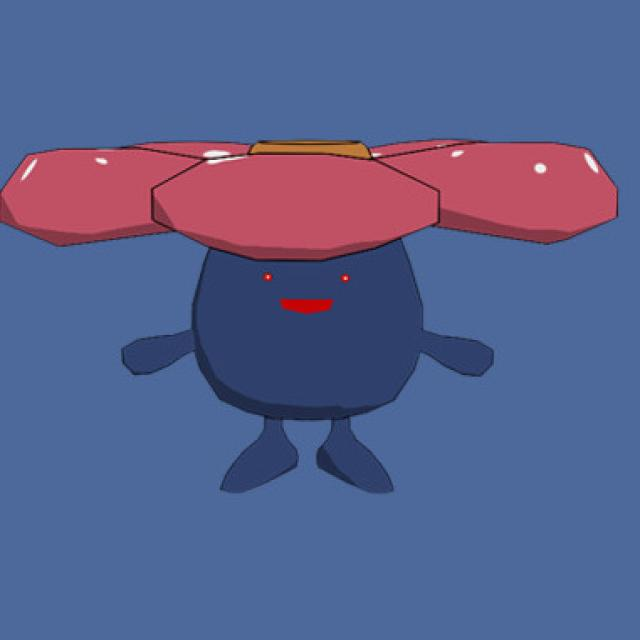Vileplume: (92, 138, 522, 502)
